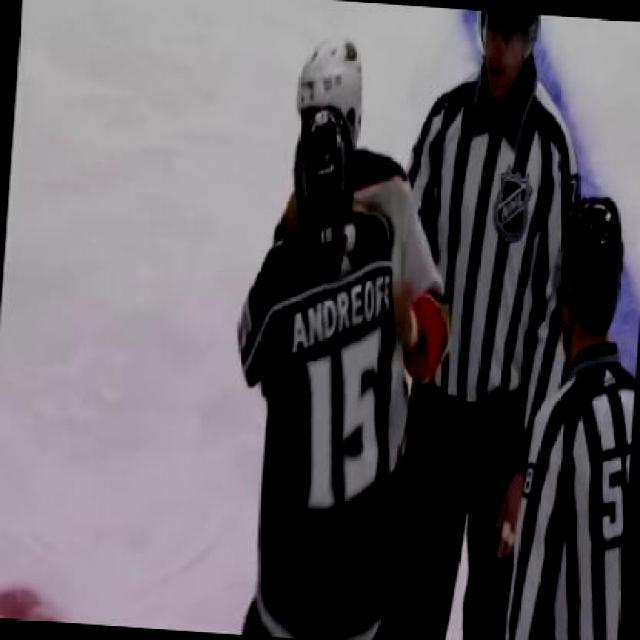fight: (214, 24, 476, 638)
